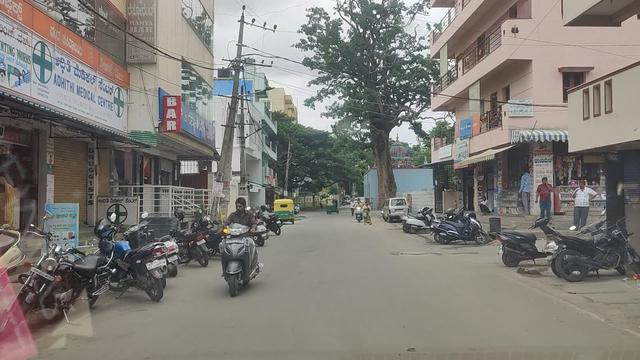LMV: (222, 196, 259, 295)
RoadDamages: (387, 247, 443, 262)
